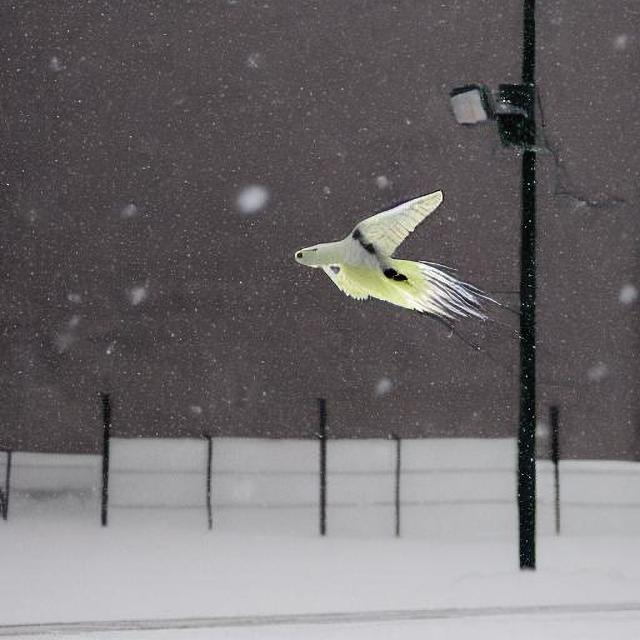floating object: (294, 192, 488, 314)
